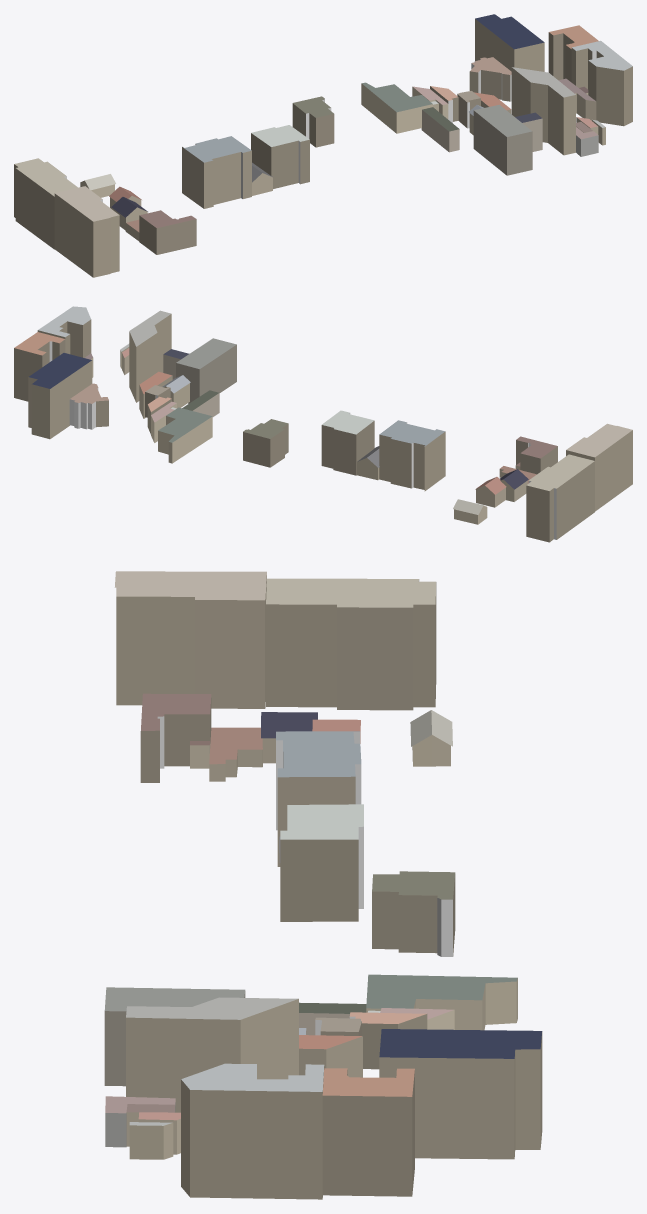
3 renders of one model, top to bottom at view 1: azimuth 30°, elevation 25°; view 2: azimuth 150°, elevation 25°; view 3: azimuth 270°, elevation 25°, orthographic. The views are drawn at different scales.
Visible parts, largest first — view 1: tuile; view 2: tuile; view 3: tuile.
Boxes of the visible parts, <box> form: tuile: <box>14,14,632,277</box>; tuile: <box>14,306,632,542</box>; tuile: <box>104,571,542,1199</box>.
Size of the model in its own units: 237 by 25.46 by 82.51.
